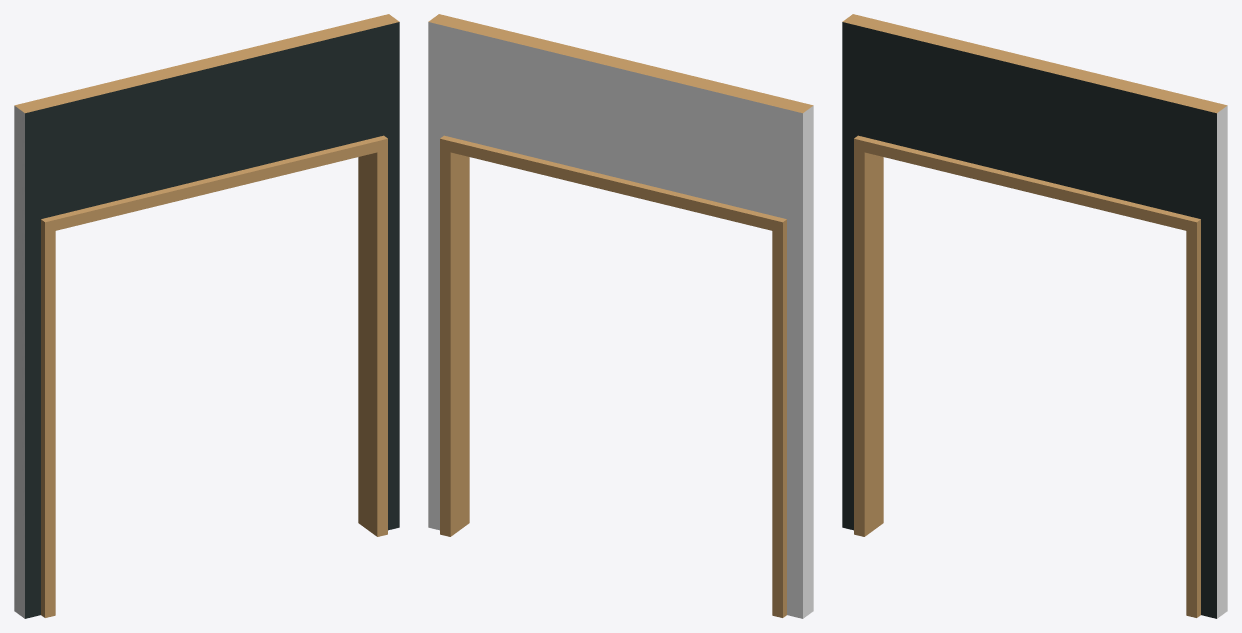
File: wallDoorwayWide.glb
3 renders of one model, left to right at view 1: azimuth 30°, elevation 25°; view 2: azimuth 150°, elevation 25°; view 3: azimuth 330°, elevation 25°, orthographic.
Size of the model in its own units: 10 by 12.9 by 0.891.
